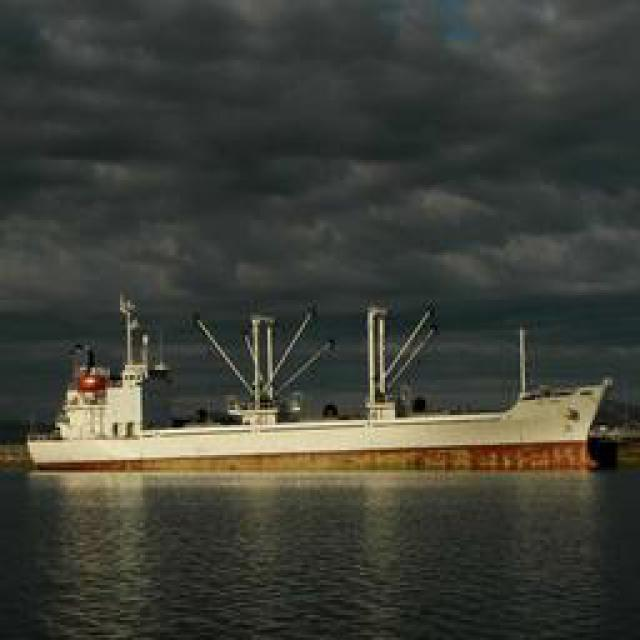Ship: (26, 301, 621, 466)
